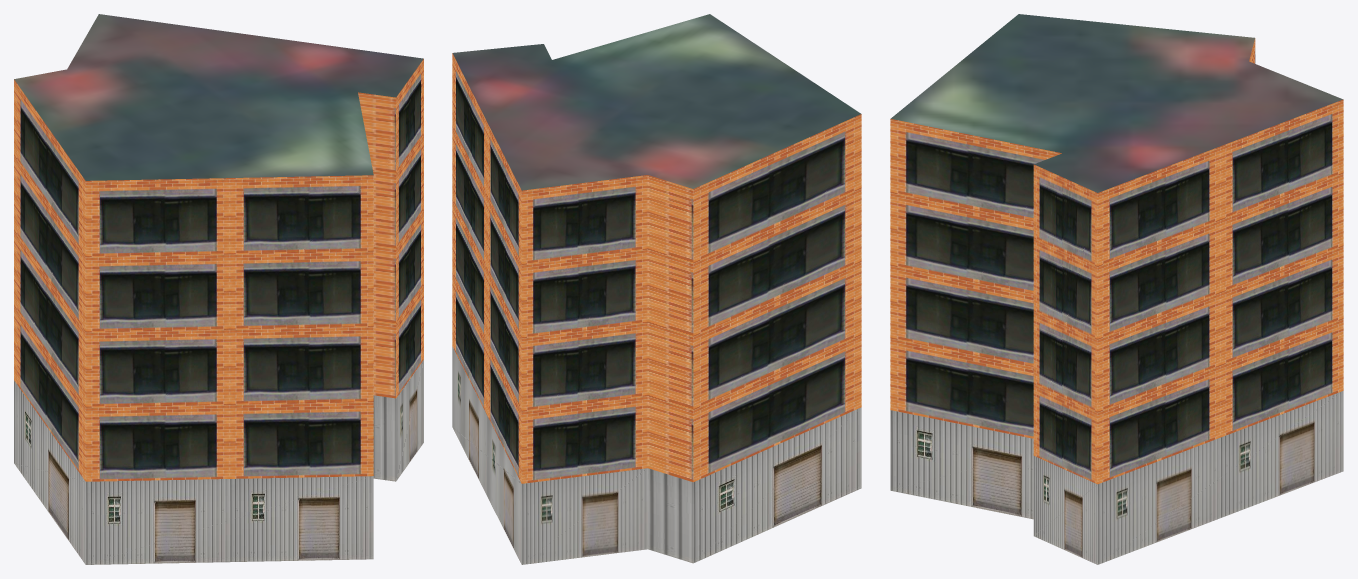
The model's file is T_1SWVL4NXJK.dae.
3 renders of one model, left to right at view 1: azimuth 30°, elevation 25°; view 2: azimuth 150°, elevation 25°; view 3: azimuth 270°, elevation 25°, orthographic. The views are drawn at different scales.
Parts seen in each view (by area): view 1: SketchUp (×3); view 2: SketchUp (×3); view 3: SketchUp (×3).
Boxes of the visible parts, x1,y1,x2,y2 form: SketchUp (×3): (14, 14, 423, 564); SketchUp (×3): (452, 14, 861, 564); SketchUp (×3): (890, 14, 1343, 564).
Size of the model in its own units: 620 by 662 by 600.
3 materials, 3 textured.
